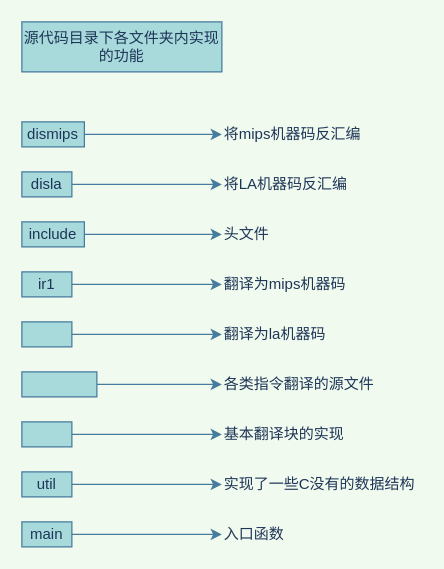
This 444x569 diagram has some shape labels left out. Each missing label, with the centre of its shape:
"ir2" goes at pixel 46 334.
"translator" goes at pixel 59 384.
"tu" goes at pixel 46 434.
